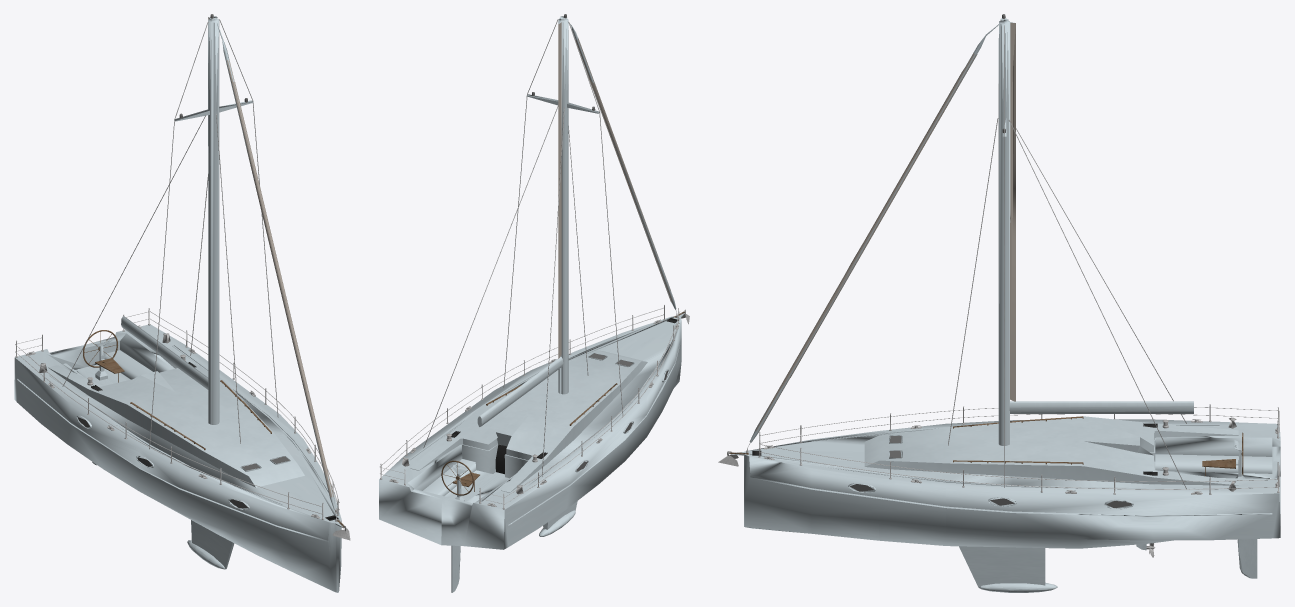
The model's file is sailboat.glb.
The picture shows the model from 3 angles, left to right: view 1: azimuth 30°, elevation 25°; view 2: azimuth 150°, elevation 25°; view 3: azimuth 270°, elevation 25°; orthographic projection. The views are drawn at different scales.
Parts seen in each view (by area): view 1: govde_fiberglass_0, govde_metal_0, direk_bez_0, object 4, ikazlamba_cam_0; view 2: govde_fiberglass_0, govde_metal_0, direk_bez_0, object 4; view 3: govde_fiberglass_0, govde_metal_0, direk_bez_0, object 4.
Part boxes in pixels (x1,y1,x2,y2): govde_fiberglass_0: [14, 16, 343, 592]; govde_metal_0: [15, 18, 350, 540]; direk_bez_0: [208, 17, 333, 497]; object 4: [83, 330, 344, 527]; ikazlamba_cam_0: [78, 14, 289, 508]; govde_fiberglass_0: [379, 16, 685, 592]; govde_metal_0: [380, 18, 689, 509]; direk_bez_0: [558, 22, 672, 358]; object 4: [441, 312, 684, 495]; govde_fiberglass_0: [730, 18, 1280, 592]; govde_metal_0: [718, 18, 1279, 557]; direk_bez_0: [755, 22, 1015, 432]; object 4: [729, 416, 1243, 476].
Size of the model in its own units: 3.89 by 13.58 by 12.
Materials: 6 (5 with a texture image).
